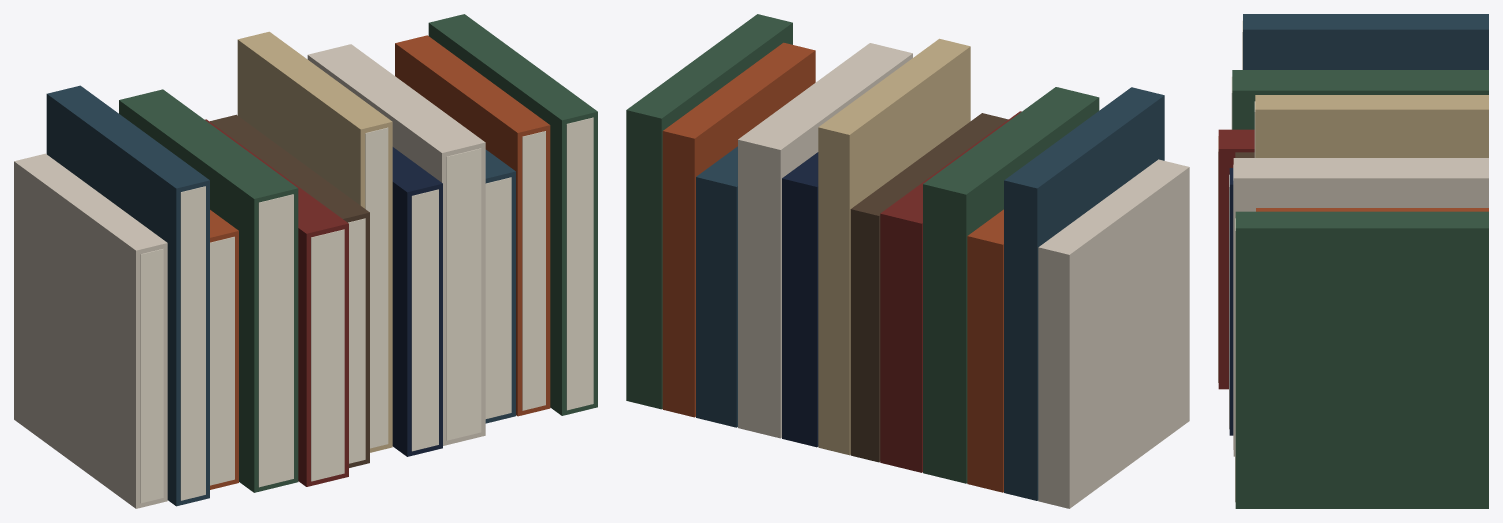
Rendered from CAL-BKR-std.glb.
3 views of the same model, side by side, from view 1: azimuth 30°, elevation 25°; view 2: azimuth 150°, elevation 25°; view 3: azimuth 270°, elevation 25° (orthographic). The views are drawn at different scales.
Parts seen in each view (by area): view 1: CAL-BKR-std; view 2: CAL-BKR-std; view 3: CAL-BKR-std.
Part boxes in pixels (x1,y1,x2,y2): CAL-BKR-std: (14, 14, 597, 508); CAL-BKR-std: (626, 14, 1189, 508); CAL-BKR-std: (1218, 14, 1488, 508).
Bounding box in the file's own units: 0.4 × 0.2762 × 0.2194.
